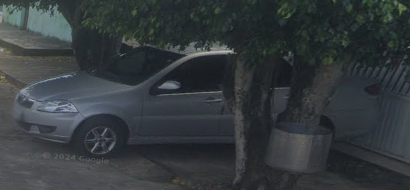car: (12, 39, 222, 161)
